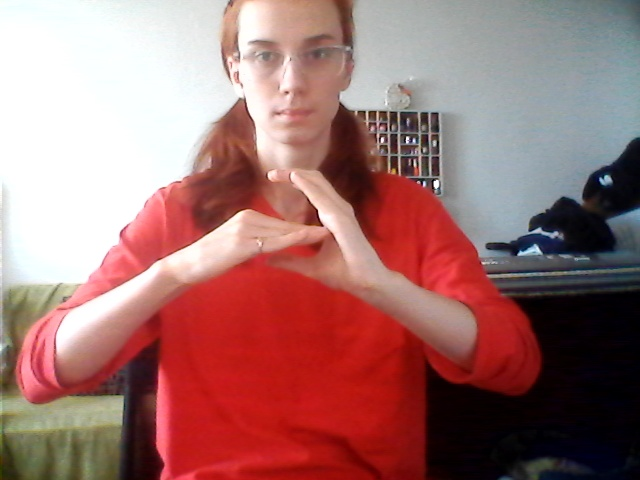e: (201, 164, 376, 304)
